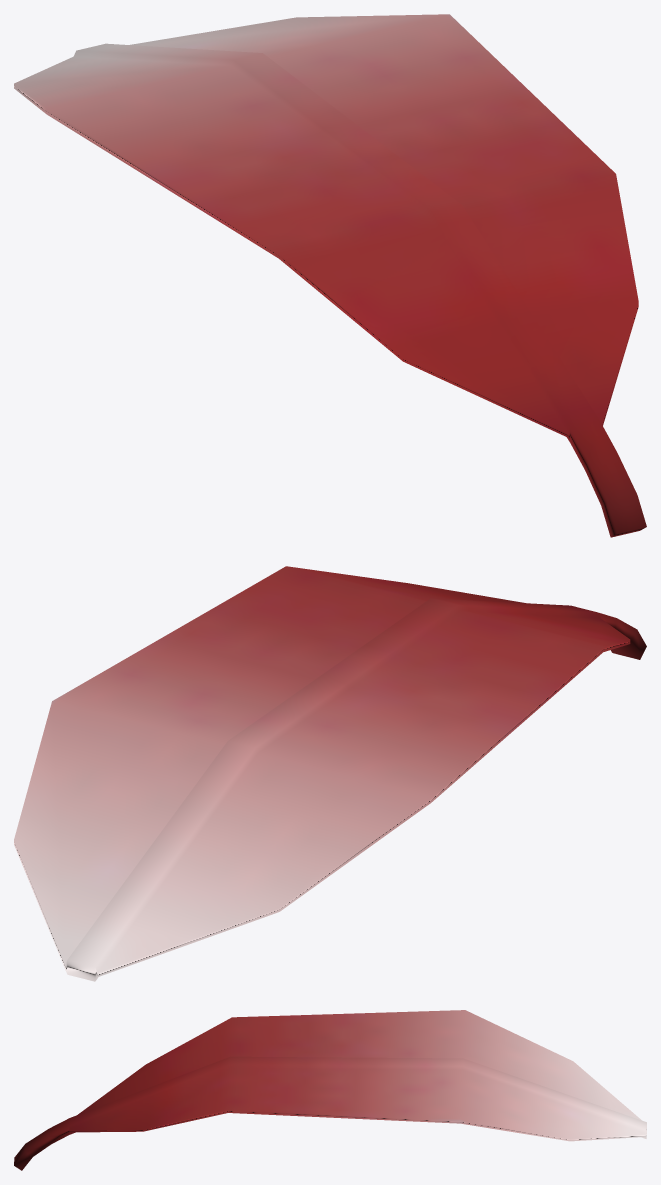
The model's file is M_TreeLeafPalm_02.fbx.
The picture shows the model from 3 angles, top to bottom: view 1: azimuth 30°, elevation 25°; view 2: azimuth 150°, elevation 25°; view 3: azimuth 270°, elevation 25°; orthographic projection. The views are drawn at different scales.
Visible parts, largest first — view 1: M_TreeLeafPalm_02; view 2: M_TreeLeafPalm_02; view 3: M_TreeLeafPalm_02.
Boxes of the visible parts, x1,y1,x2,y2 form: M_TreeLeafPalm_02: (14, 14, 646, 537); M_TreeLeafPalm_02: (14, 566, 646, 981); M_TreeLeafPalm_02: (14, 1010, 646, 1170).
Bounding box in the file's own units: 70.09 × 31.91 × 170.
Materials: 1 (1 with a texture image).
